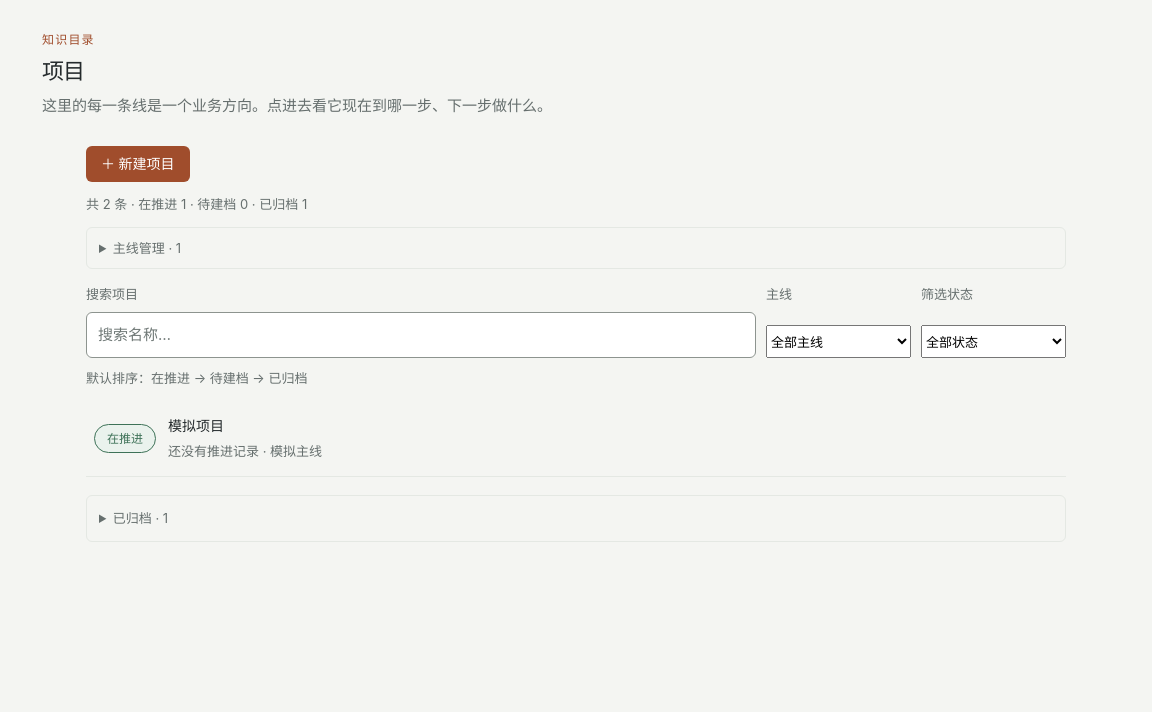
Test: uses confirmed overview or explicit progress for status and keeps undated pages honest
expect the button "在推进 模拟项目 还没有推进记录 · 模拟主线" is shown: met, box [86,401,1066,476]
Select "待建档" in the dropdown labelled "筛选状态" at (994, 342), box [921,325,1066,358]
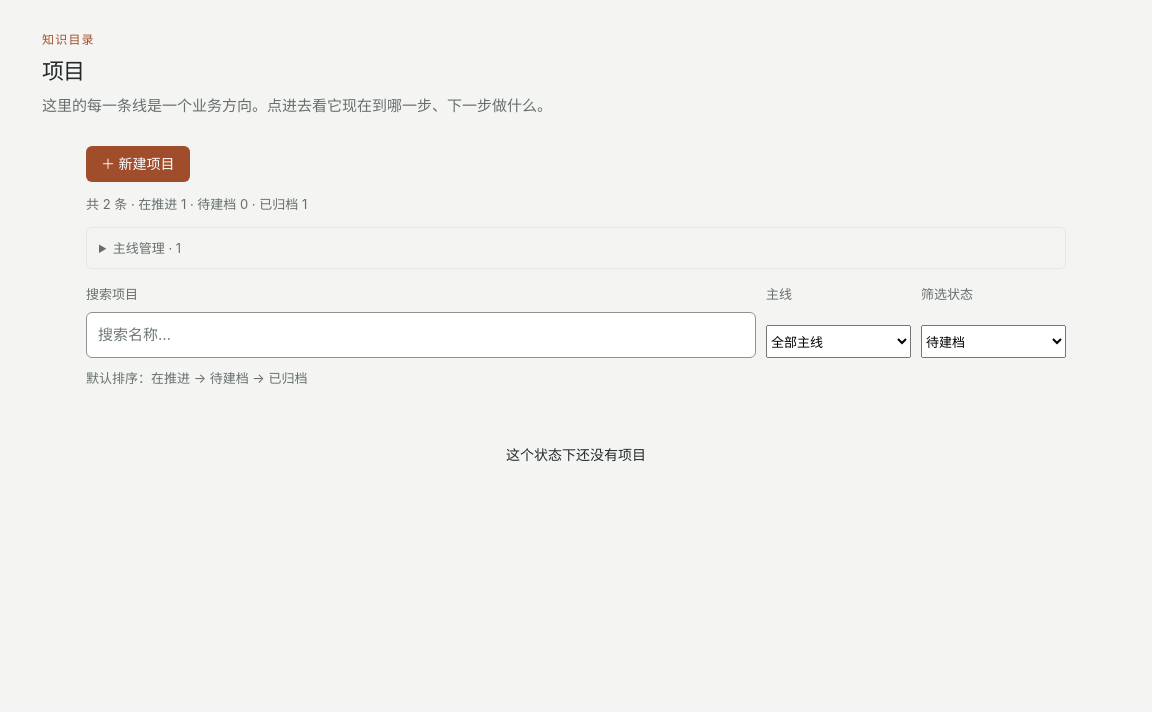
expect the text "这个状态下还没有项目" is shown: met, box [506,444,646,466]
Select "全部状态" in the dropdown labelled "筛选状态" at (994, 342), box [921,325,1066,358]
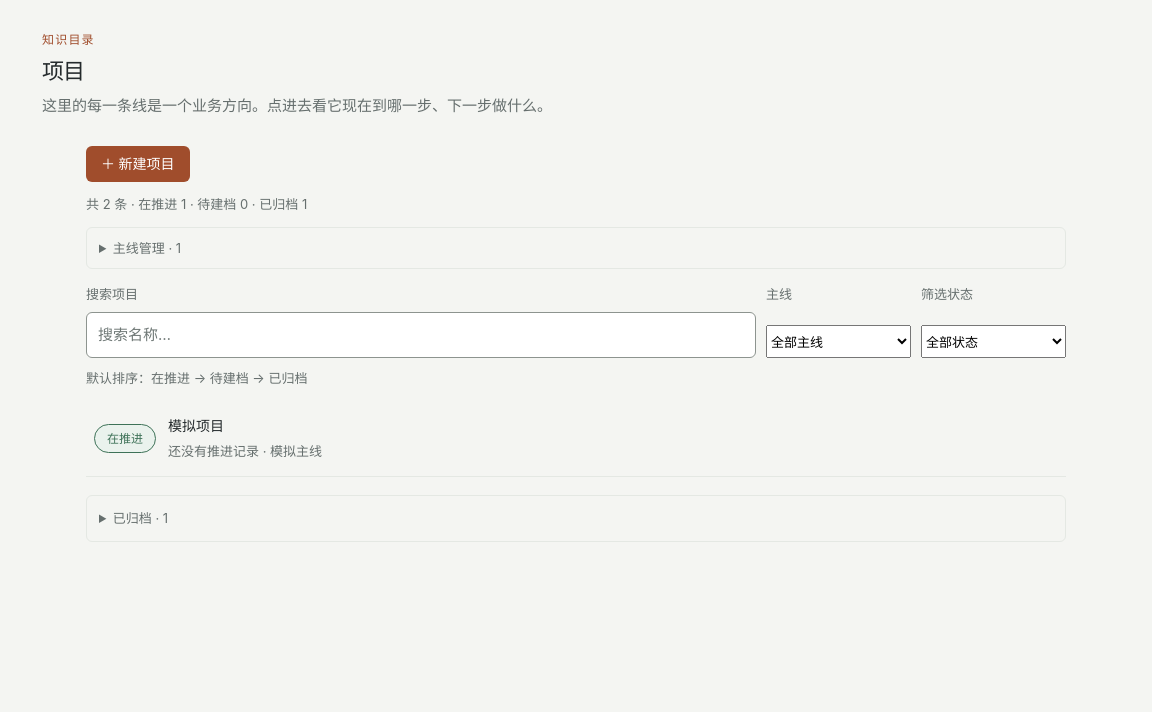
Click the button "在推进 模拟项目 还没有推进记录 · 模拟主线".
click(125, 439)  # box [86,401,1066,476]
(page scrolled)
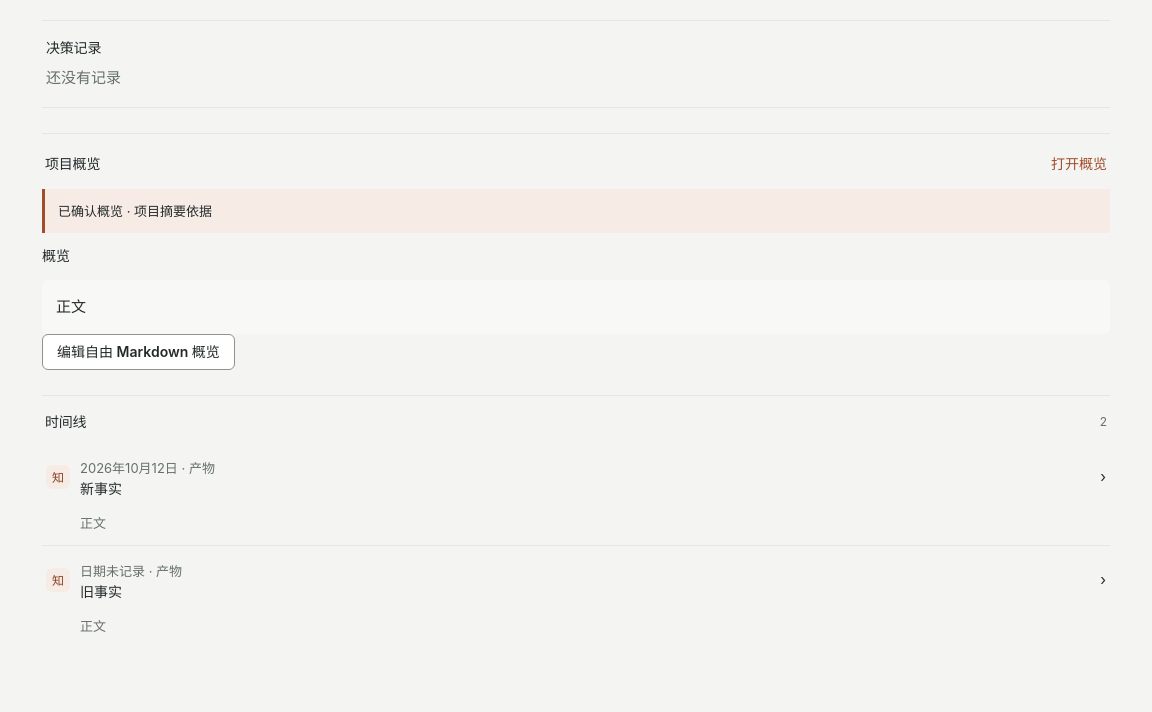
expect the text "日期未记录 · 产物" is shown: met, box [80,563,182,579]
